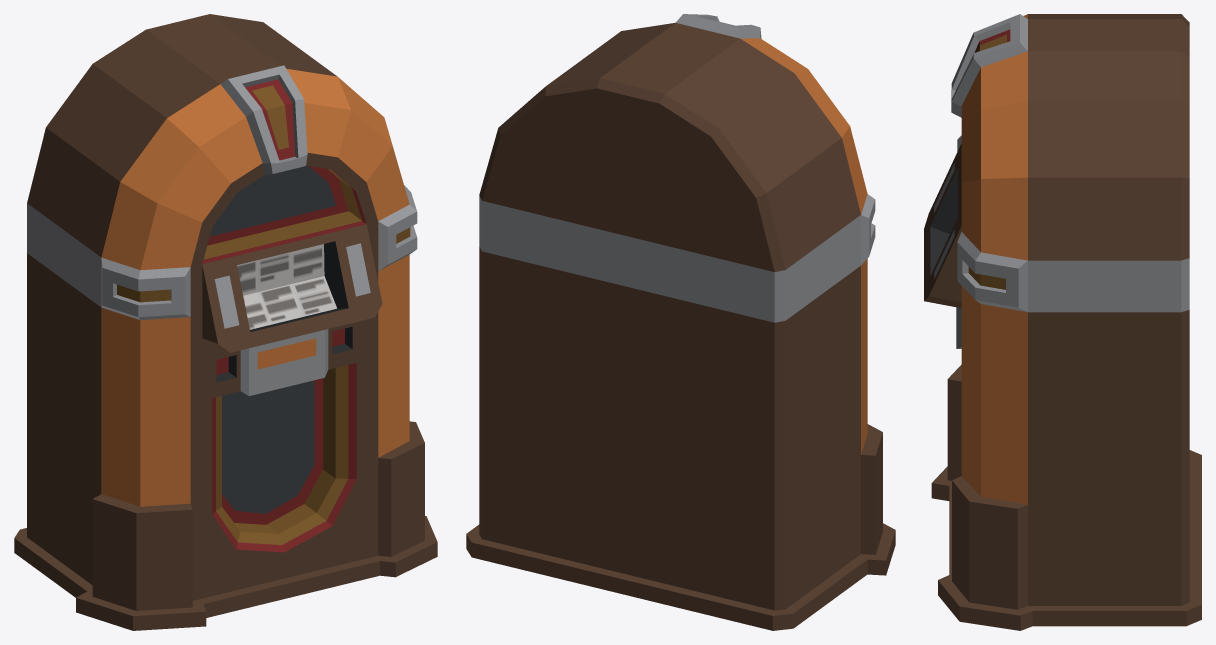
The model's file is Jukebox.fbx.
The picture shows the model from 3 angles, left to right: view 1: azimuth 30°, elevation 25°; view 2: azimuth 150°, elevation 25°; view 3: azimuth 270°, elevation 25°; orthographic projection. The views are drawn at different scales.
Visible parts, largest first — view 1: Jukebox; view 2: Jukebox; view 3: Jukebox.
Part boxes in pixels (left/top/right/bottom): Jukebox: left=14, top=14, right=437, bottom=630; Jukebox: left=466, top=14, right=895, bottom=630; Jukebox: left=924, top=14, right=1201, bottom=630.
Bounding box in the file's own units: 118 × 163 × 79.28.
1 material, 1 textured.
